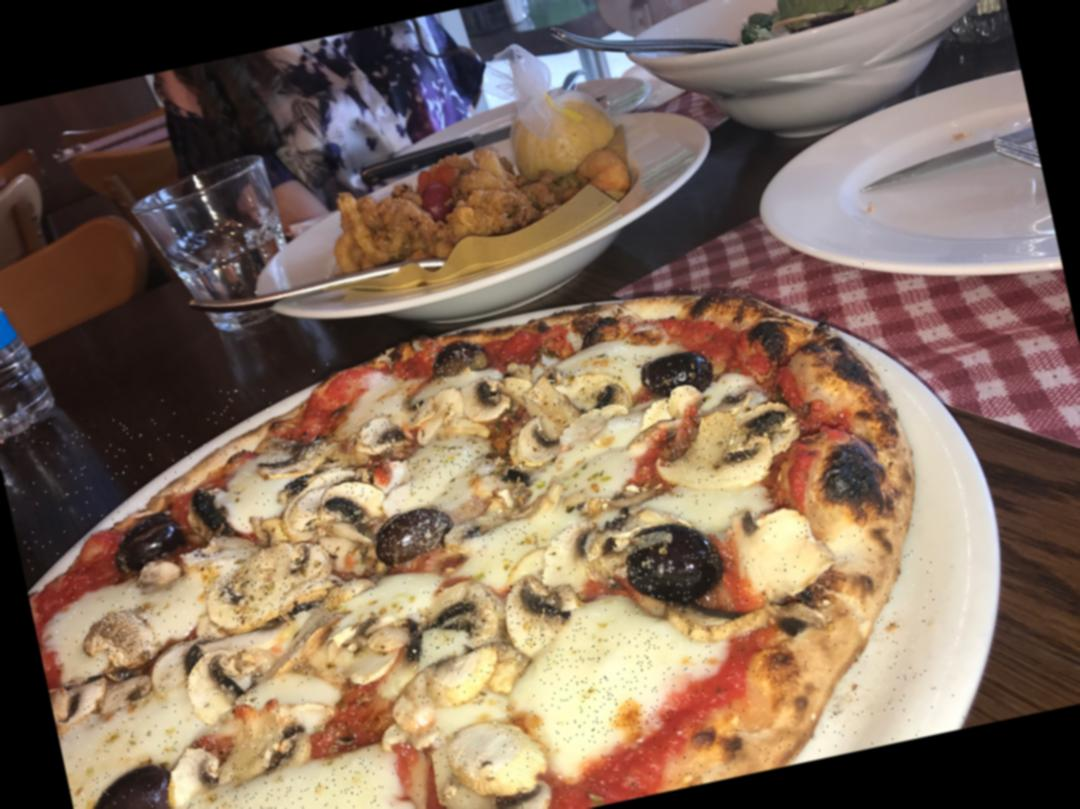Cheese: (535, 626, 676, 746), (61, 661, 190, 774), (184, 759, 386, 809), (404, 441, 500, 496), (473, 515, 552, 561)
Mushroom: (199, 534, 344, 634), (658, 400, 788, 492), (204, 698, 342, 782), (738, 500, 833, 612), (388, 643, 527, 715), (503, 357, 628, 433), (438, 712, 545, 800), (283, 460, 390, 540), (501, 568, 594, 660), (299, 608, 401, 687), (673, 585, 782, 653), (414, 578, 506, 654), (540, 517, 623, 594), (182, 640, 267, 714), (416, 378, 512, 442), (88, 602, 162, 668), (255, 431, 340, 482), (506, 412, 563, 470), (352, 409, 404, 458)
Olives: (620, 514, 729, 616), (81, 760, 180, 809), (114, 510, 186, 570), (378, 504, 452, 562), (641, 347, 717, 399), (428, 338, 481, 378)
Pizza: (0, 248, 967, 809)
